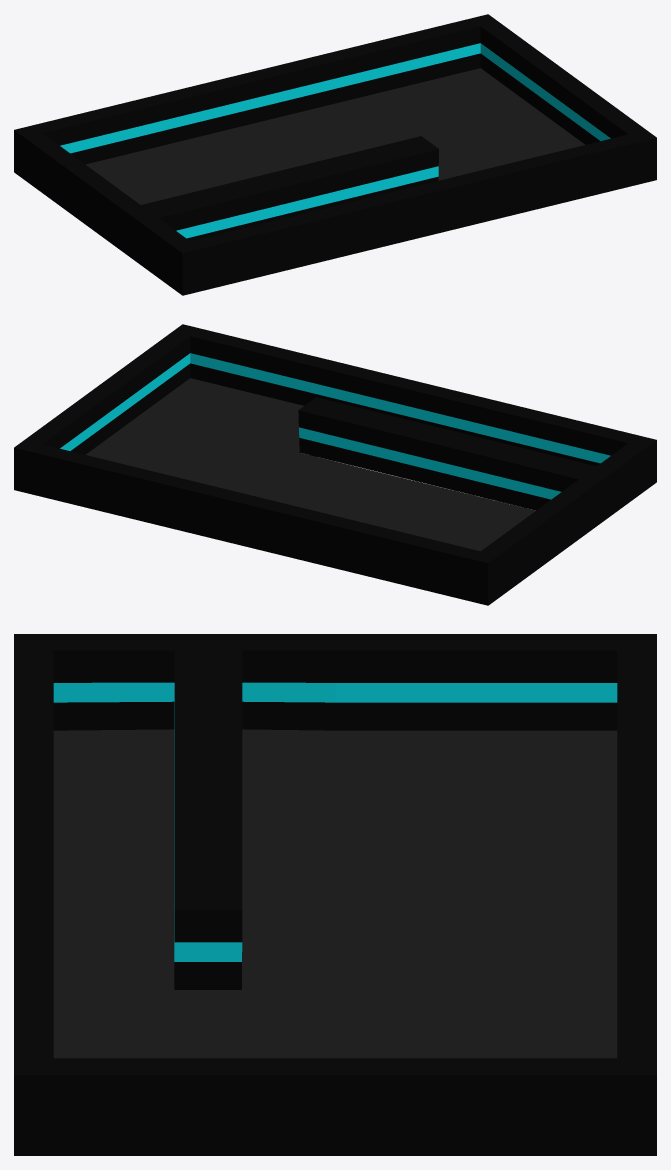
The model's file is Pinball playing field.FBX.
3 views of the same model, one above another, from view 1: azimuth 30°, elevation 25°; view 2: azimuth 150°, elevation 25°; view 3: azimuth 270°, elevation 25° (orthographic). The views are drawn at different scales.
Visible parts, largest first — view 1: Pinball field; view 2: Pinball field; view 3: Pinball field.
Boxes of the visible parts, x1=… form: Pinball field: x1=14, y1=14, x2=656, y2=295; Pinball field: x1=14, y1=324, x2=656, y2=605; Pinball field: x1=14, y1=634, x2=656, y2=1155.
Size of the model in its own units: 164 by 14.22 by 101.
